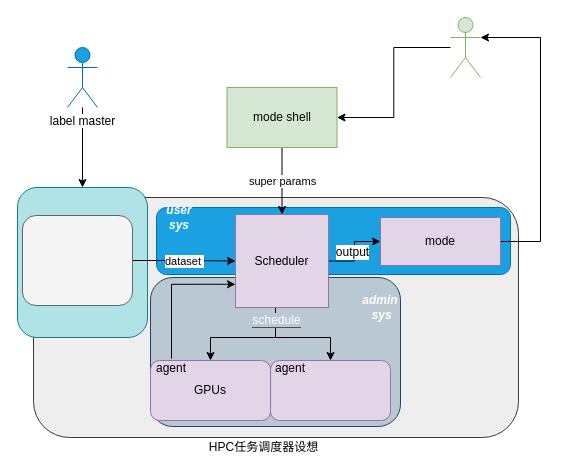
The diagram is 566 pixels wide and 475 high, and some of its shapes have lost their labels. The box of each missing label's shape, as (x1, y1, x2, y2) in pixels:
Algorithm engineer: (450, 16, 480, 78)
CPUs: (270, 360, 390, 420)
label sequence data: (22, 214, 132, 306)
